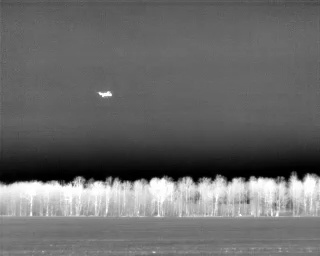DRONE: (94, 86, 116, 102)
